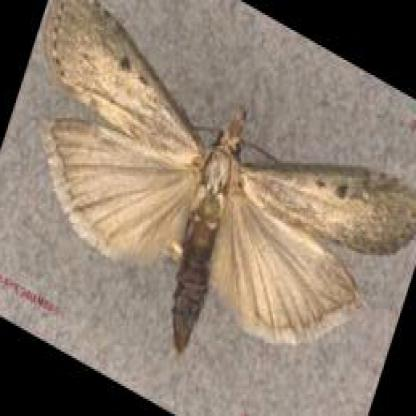Leaf Webber: (44, 0, 415, 362)
